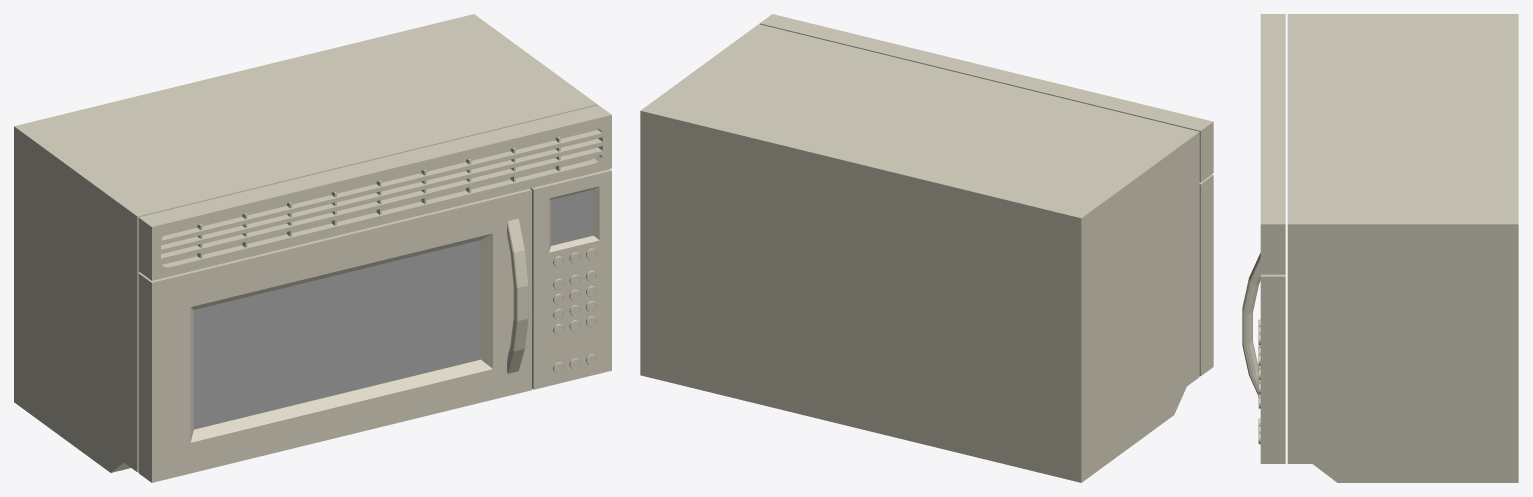
File: KHHS179L.gltf
The picture shows the model from 3 angles, left to right: view 1: azimuth 30°, elevation 25°; view 2: azimuth 150°, elevation 25°; view 3: azimuth 270°, elevation 25°; orthographic projection. The views are drawn at different scales.
Parts seen in each view (by area): view 1: Group_1, Group_18, Group_24, Group_19, Group_17, Group_23, Group_25; view 2: Group_1, Group_19, Group_18; view 3: Group_1, Group_19, Group_17, Group_23.
Boxes of the visible parts, <box> form: Group_1: <box>14,14,597,472</box>; Group_18: <box>138,188,531,482</box>; Group_24: <box>194,240,480,429</box>; Group_19: <box>138,105,611,280</box>; Group_17: <box>530,169,611,389</box>; Group_23: <box>507,218,528,373</box>; Group_25: <box>551,189,593,245</box>; Group_1: <box>640,24,1199,482</box>; Group_19: <box>759,14,1213,182</box>; Group_18: <box>1199,174,1213,376</box>; Group_1: <box>1287,14,1518,482</box>; Group_19: <box>1260,14,1285,274</box>; Group_17: <box>1260,274,1285,463</box>; Group_23: <box>1242,253,1260,395</box>.
Size of the model in its own units: 0.7588 by 0.435 by 0.4216.
